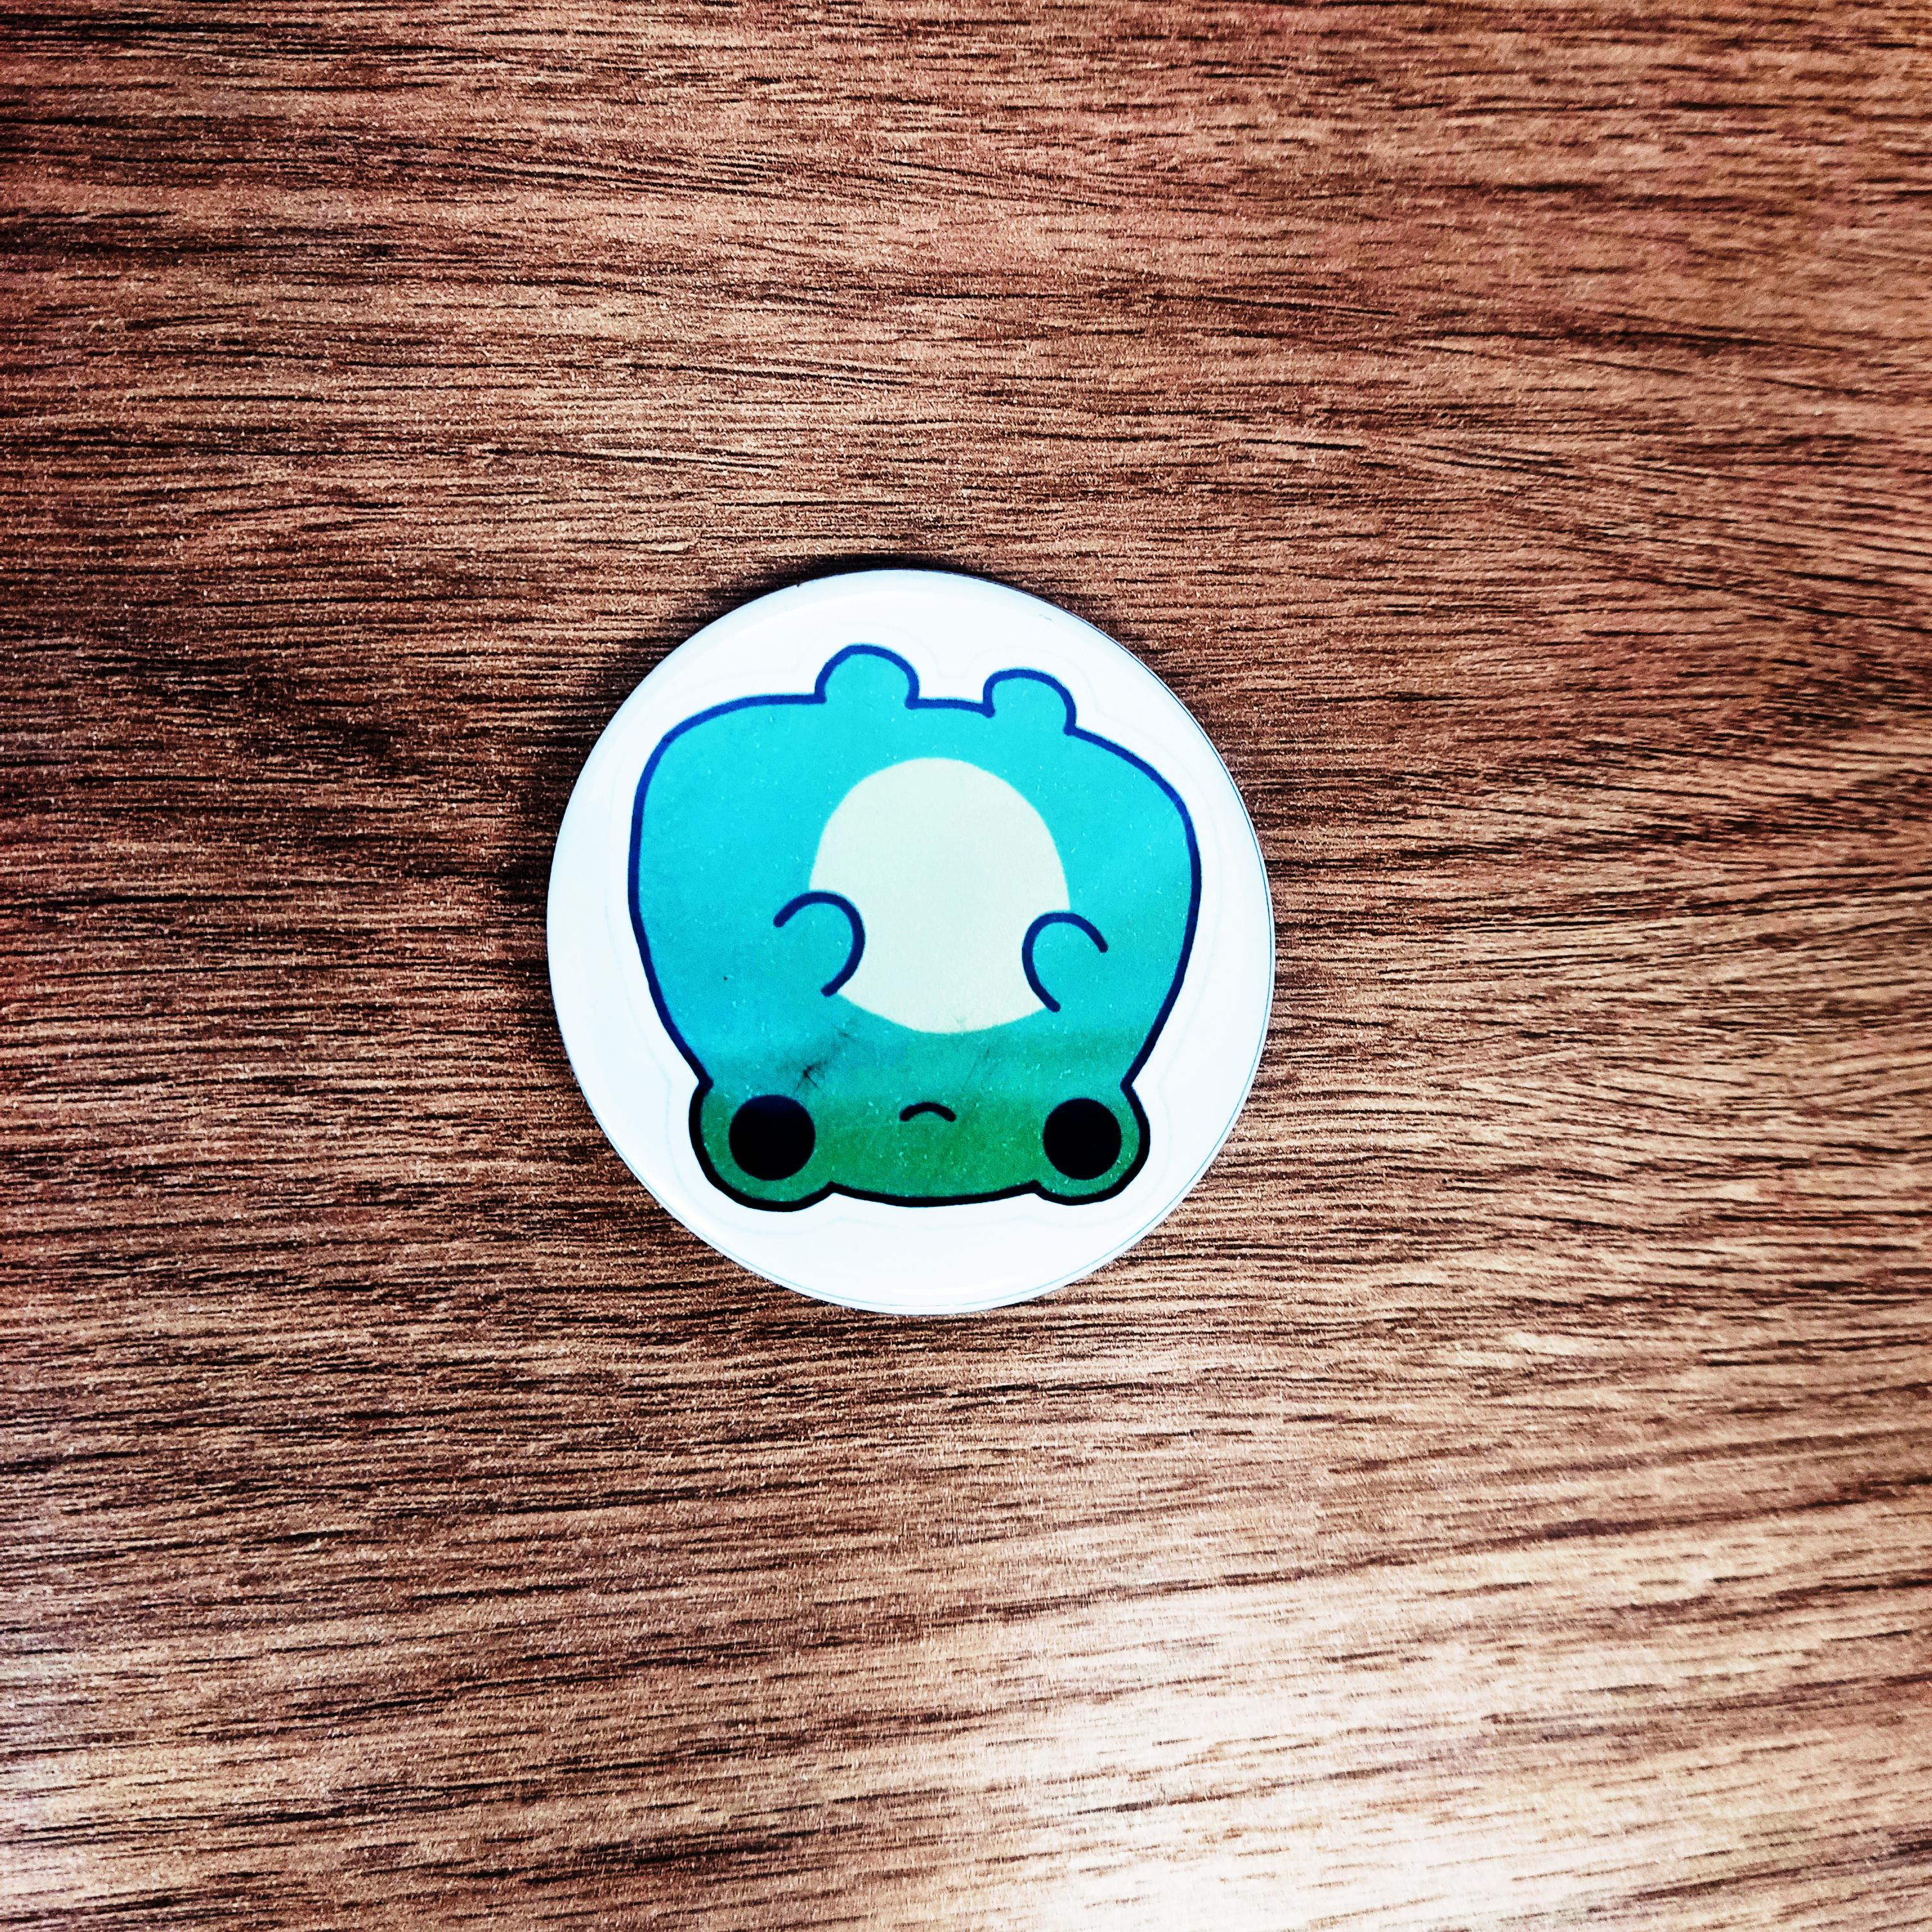pin: (515, 587, 1369, 1325)
